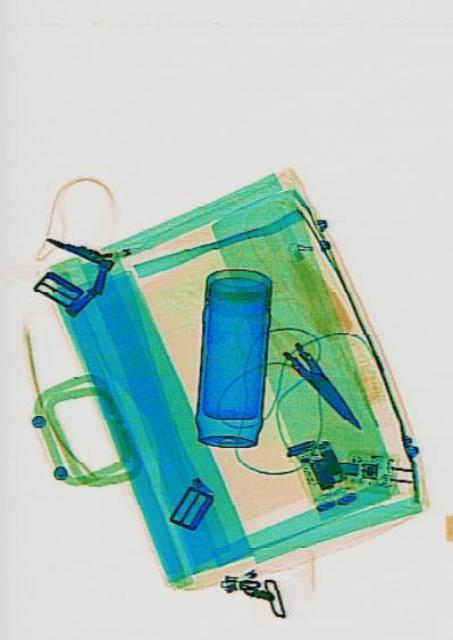Knife: (278, 334, 366, 438)
